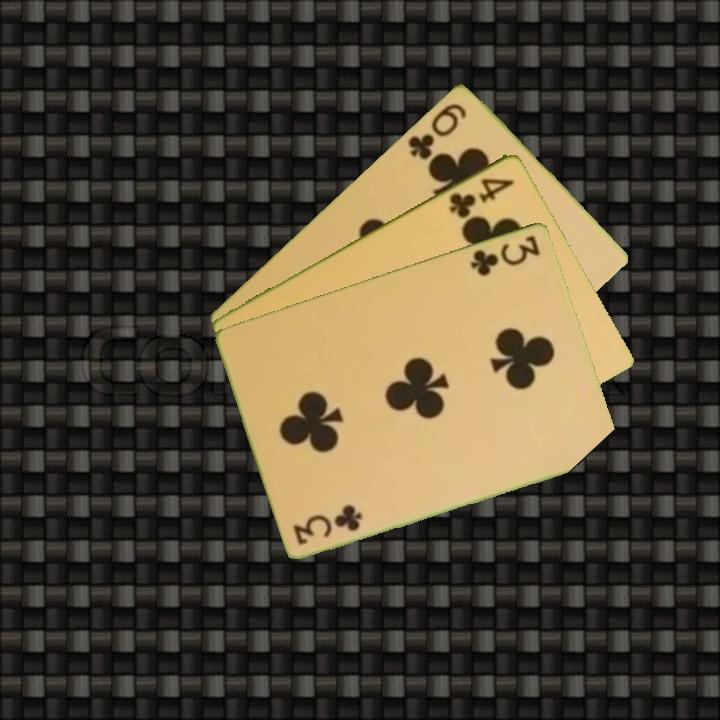3c: (467, 231, 543, 279), (290, 504, 365, 547)
4c: (445, 173, 518, 221)
6c: (404, 98, 470, 162)
